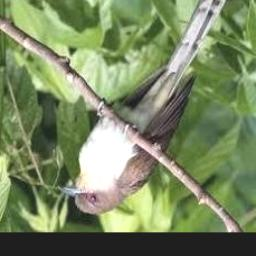Cuckoo: (60, 0, 230, 214)
